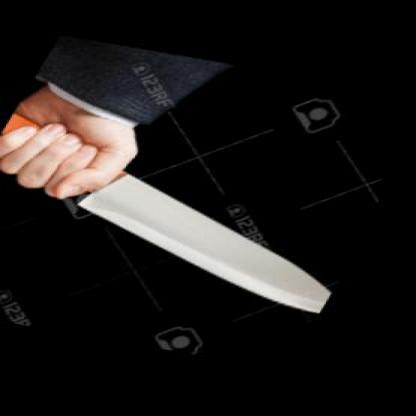knife: (0, 106, 396, 332)
